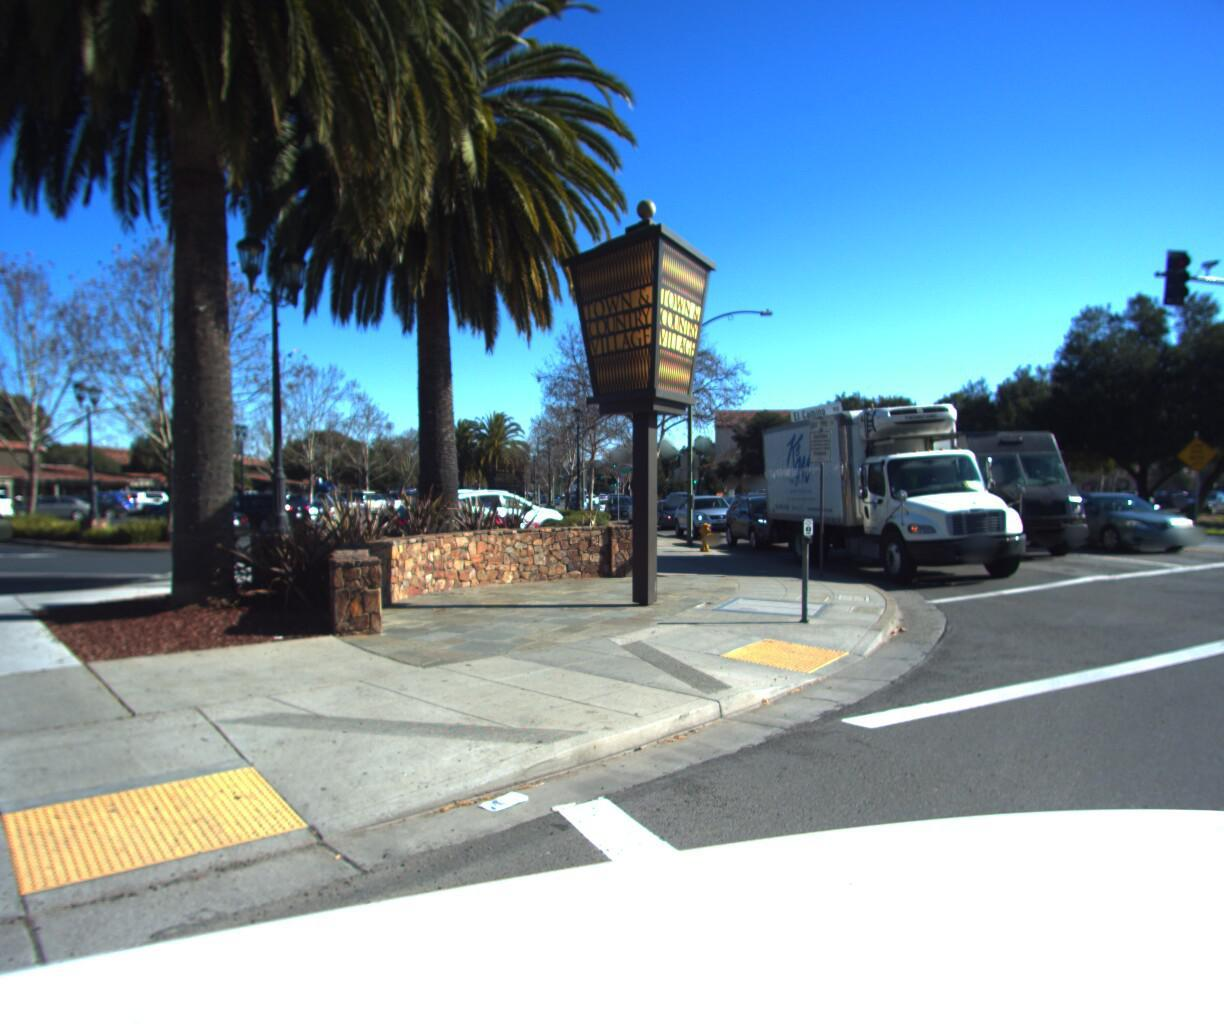car: (1021, 484, 1220, 553), (416, 480, 577, 538), (715, 487, 817, 549), (668, 484, 742, 532), (653, 487, 700, 525)
truck: (764, 380, 1039, 582), (856, 416, 1115, 561)
